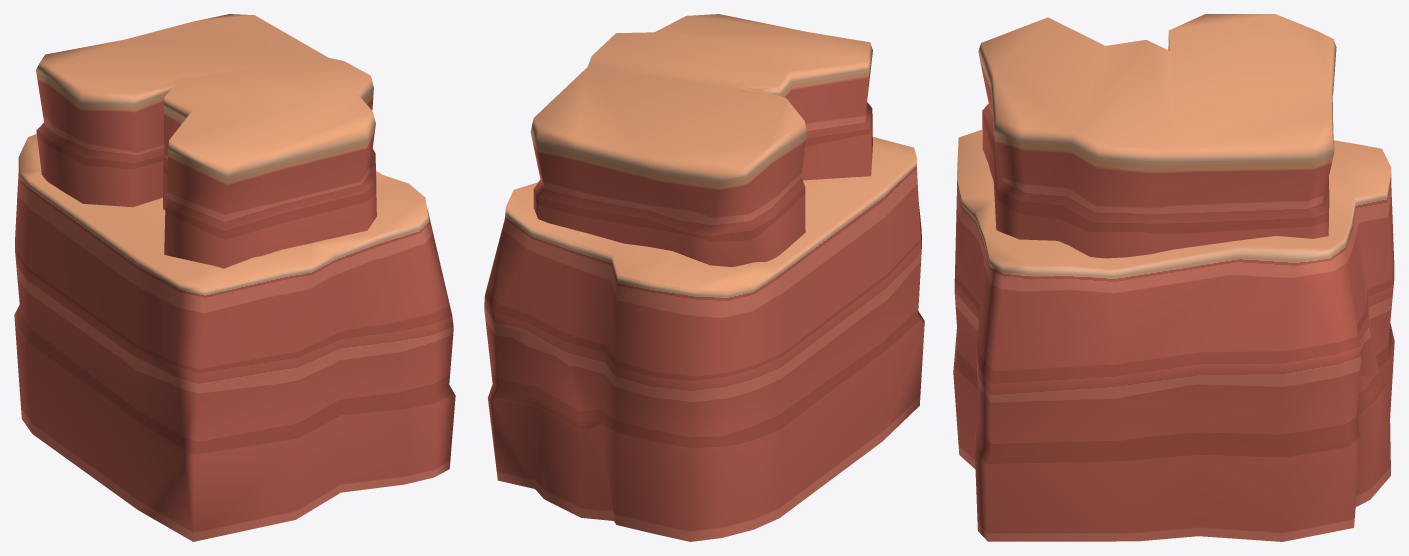
Rendered from BO_Rock_5x5x4.fbx.
3 views of the same model, side by side, from view 1: azimuth 30°, elevation 25°; view 2: azimuth 150°, elevation 25°; view 3: azimuth 270°, elevation 25° (orthographic). The views are drawn at different scales.
Parts seen in each view (by area): view 1: Rock_5x5x4; view 2: Rock_5x5x4; view 3: Rock_5x5x4.
Boxes of the visible parts, x1,y1,x2,y2 form: Rock_5x5x4: (14, 14, 455, 541); Rock_5x5x4: (484, 14, 924, 541); Rock_5x5x4: (953, 14, 1394, 541).
Size of the model in its own units: 406 by 502 by 508.
1 material, 1 textured.
